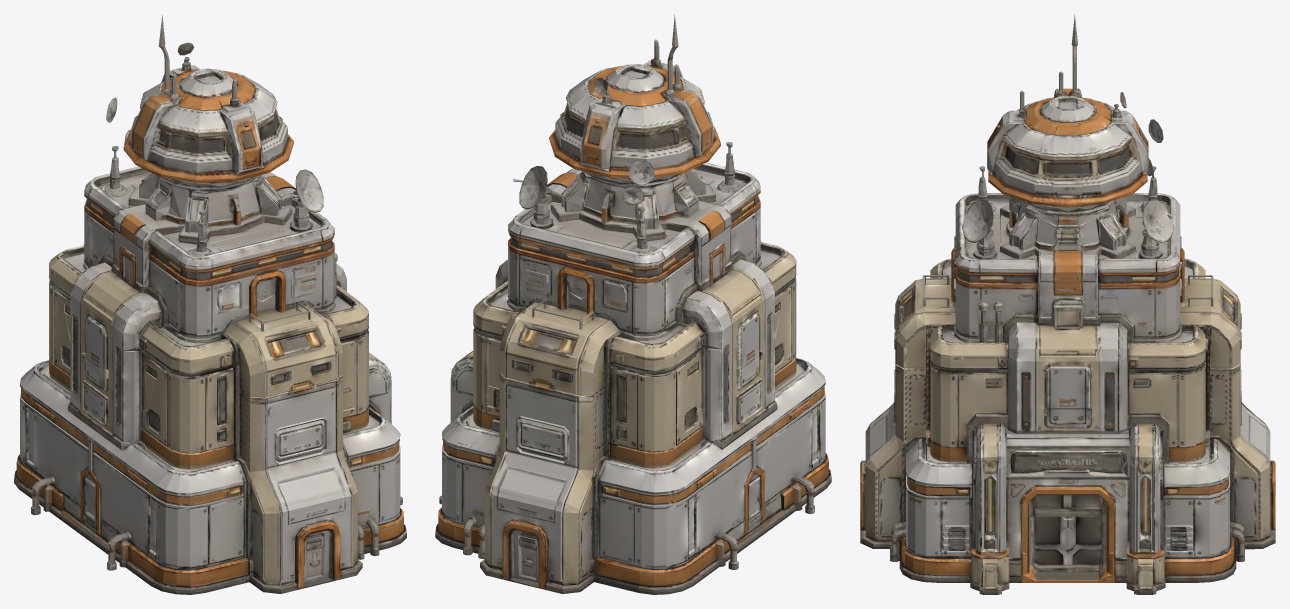
The model's file is civic-center.glb.
3 views of the same model, side by side, from view 1: azimuth 30°, elevation 25°; view 2: azimuth 150°, elevation 25°; view 3: azimuth 270°, elevation 25° (orthographic). The views are drawn at different scales.
Parts seen in each view (by area): view 1: tripo_node_1123dd00-6a16-4016-a1ad-e5bbdd70a57b; view 2: tripo_node_1123dd00-6a16-4016-a1ad-e5bbdd70a57b; view 3: tripo_node_1123dd00-6a16-4016-a1ad-e5bbdd70a57b.
Part boxes in pixels (box(x1,y1,x2,y2)): tripo_node_1123dd00-6a16-4016-a1ad-e5bbdd70a57b: box(14, 15, 406, 594); tripo_node_1123dd00-6a16-4016-a1ad-e5bbdd70a57b: box(435, 14, 831, 594); tripo_node_1123dd00-6a16-4016-a1ad-e5bbdd70a57b: box(860, 14, 1275, 594).
Size of the model in its own units: 0.6047 by 1 by 0.7691.
1 material, 1 textured.
